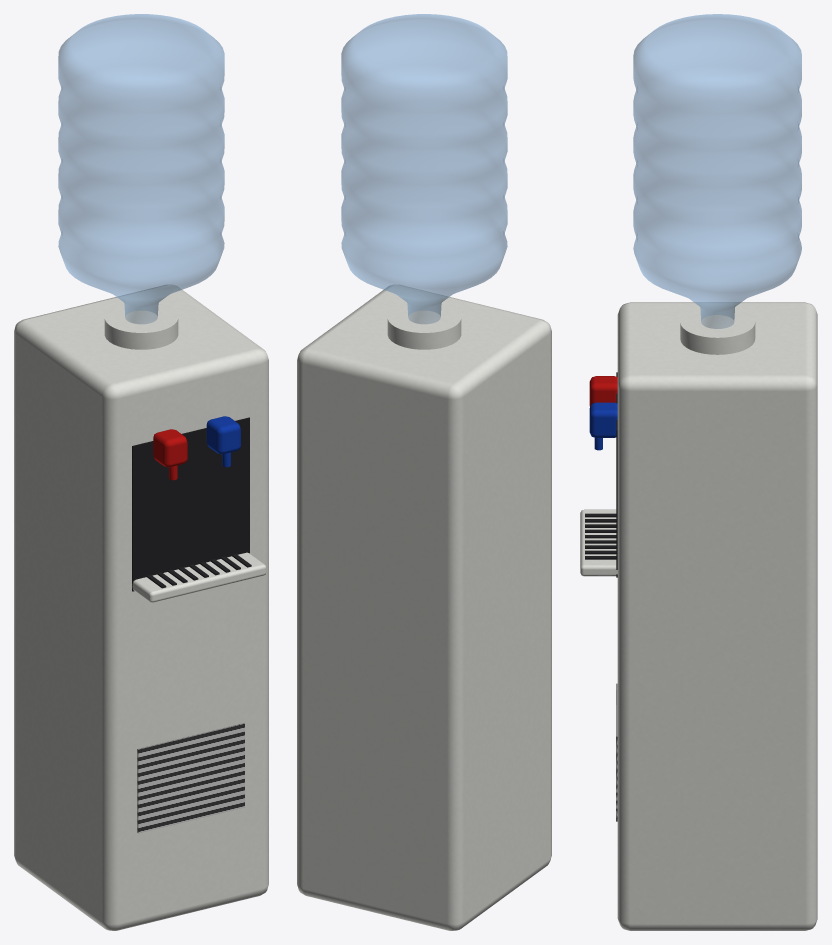
Rendered from WaterCooler.obj.
3 renders of one model, left to right at view 1: azimuth 30°, elevation 25°; view 2: azimuth 150°, elevation 25°; view 3: azimuth 270°, elevation 25°, orthographic.
Parts seen in each view (by area): view 1: Body, Bottle, Recess, Vent, Tray, TapRed, TapBlue; view 2: Body, Bottle; view 3: Body, Bottle, Tray, Recess, TapBlue, TapRed.
Boxes of the visible parts, x1=… form: Body: x1=14, y1=285, x2=268, y2=930; Bottle: x1=58, y1=14, x2=224, y2=323; Recess: x1=132, y1=417, x2=251, y2=591; Vent: x1=137, y1=723, x2=244, y2=833; Tray: x1=132, y1=552, x2=266, y2=602; TapRed: x1=153, y1=429, x2=187, y2=480; TapBlue: x1=206, y1=416, x2=240, y2=467; Body: x1=297, y1=285, x2=551, y2=930; Bottle: x1=341, y1=14, x2=507, y2=323; Body: x1=617, y1=302, x2=817, y2=930; Bottle: x1=633, y1=14, x2=801, y2=328; Tray: x1=580, y1=509, x2=617, y2=576; Recess: x1=585, y1=372, x2=617, y2=577; TapBlue: x1=589, y1=402, x2=617, y2=450; TapRed: x1=589, y1=376, x2=617, y2=406.
Size of the model in its own units: 0.31 by 1.5 by 0.38.
7 materials, 3 textured.
